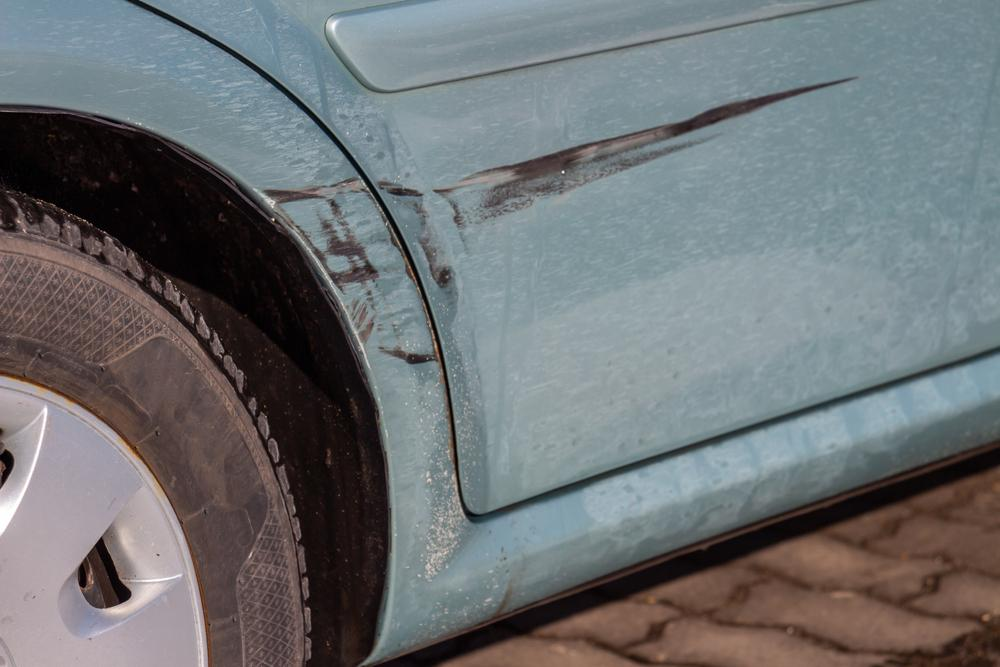scratch: (375, 72, 871, 293), (254, 175, 443, 373)
